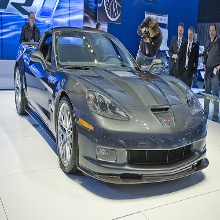no damage: (13, 27, 209, 189)
